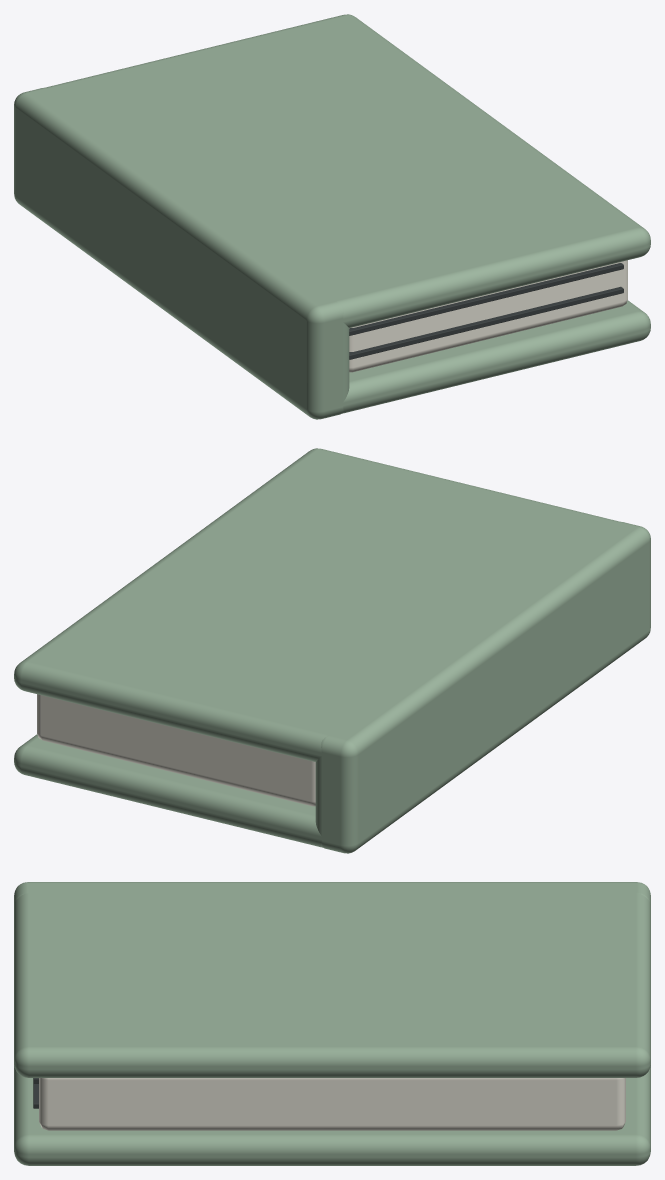
File: public-library-and-reading-garden-public-library-and-r-b06d83de__30932.glb
3 renders of one model, top to bottom at view 1: azimuth 30°, elevation 25°; view 2: azimuth 150°, elevation 25°; view 3: azimuth 270°, elevation 25°, orthographic. The views are drawn at different scales.
Parts seen in each view (by area): view 1: public-library-and-reading-garden-bound-novel; view 2: public-library-and-reading-garden-bound-novel; view 3: public-library-and-reading-garden-bound-novel.
Boxes of the visible parts, bbox=[...] form: public-library-and-reading-garden-bound-novel: bbox=[14, 14, 650, 419]; public-library-and-reading-garden-bound-novel: bbox=[14, 448, 650, 853]; public-library-and-reading-garden-bound-novel: bbox=[14, 882, 650, 1165].
Size of the model in its own units: 0.15 by 0.047 by 0.23.
